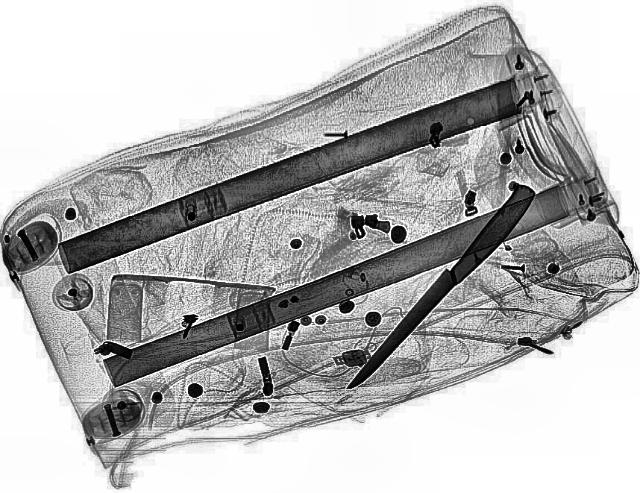Knife: (344, 182, 544, 396)
